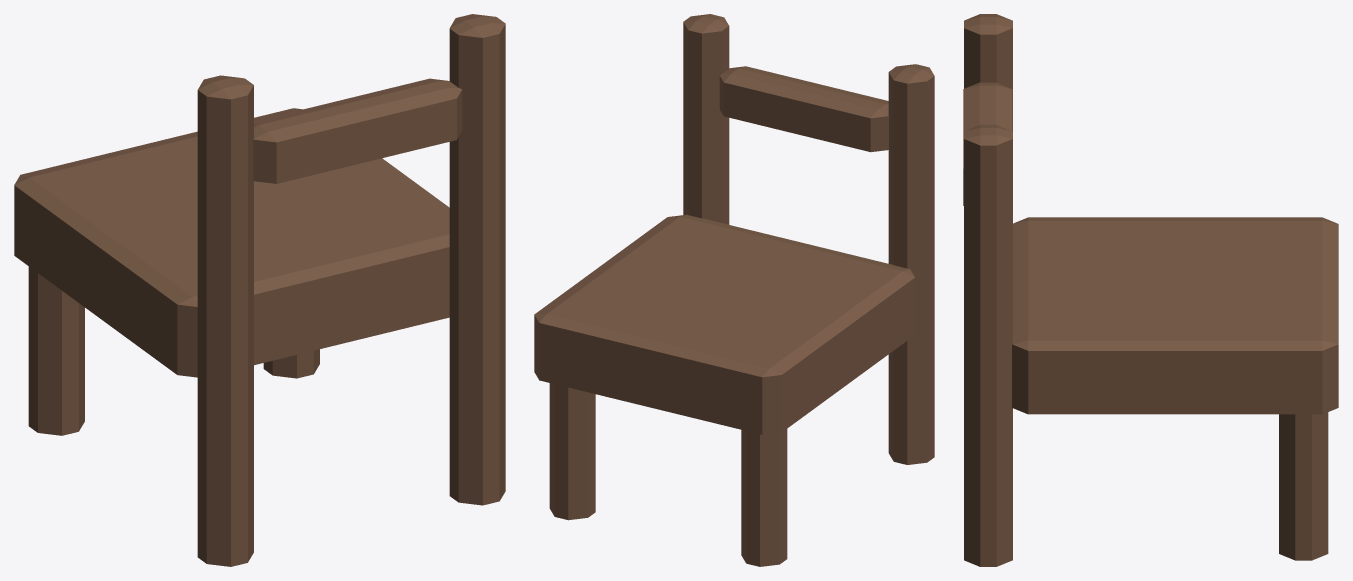
Rendered from tabernaSilla.fbx.
The picture shows the model from 3 angles, left to right: view 1: azimuth 30°, elevation 25°; view 2: azimuth 150°, elevation 25°; view 3: azimuth 270°, elevation 25°; orthographic projection. The views are drawn at different scales.
Parts seen in each view (by area): view 1: Silla; view 2: Silla; view 3: Silla.
Boxes of the visible parts, x1=… form: Silla: x1=14, y1=14, x2=505, y2=566; Silla: x1=534, y1=14, x2=934, y2=566; Silla: x1=963, y1=14, x2=1338, y2=566.
Size of the model in its own units: 0.3862 by 0.5779 by 0.4591.
